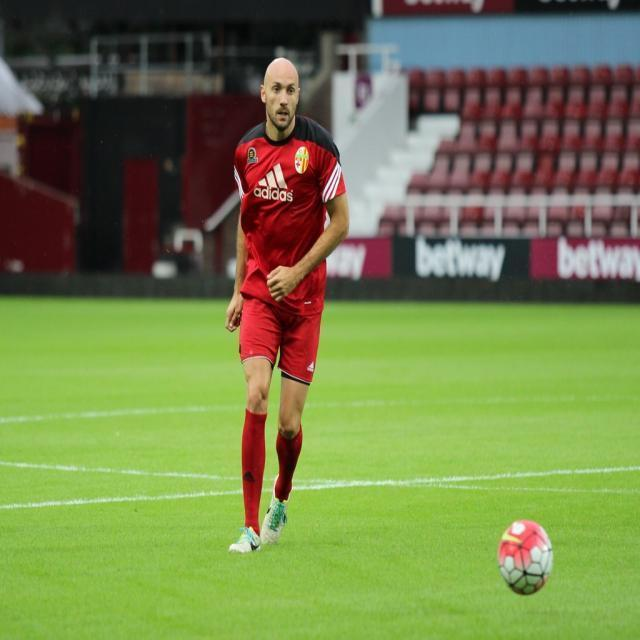ball: (497, 517, 555, 594)
